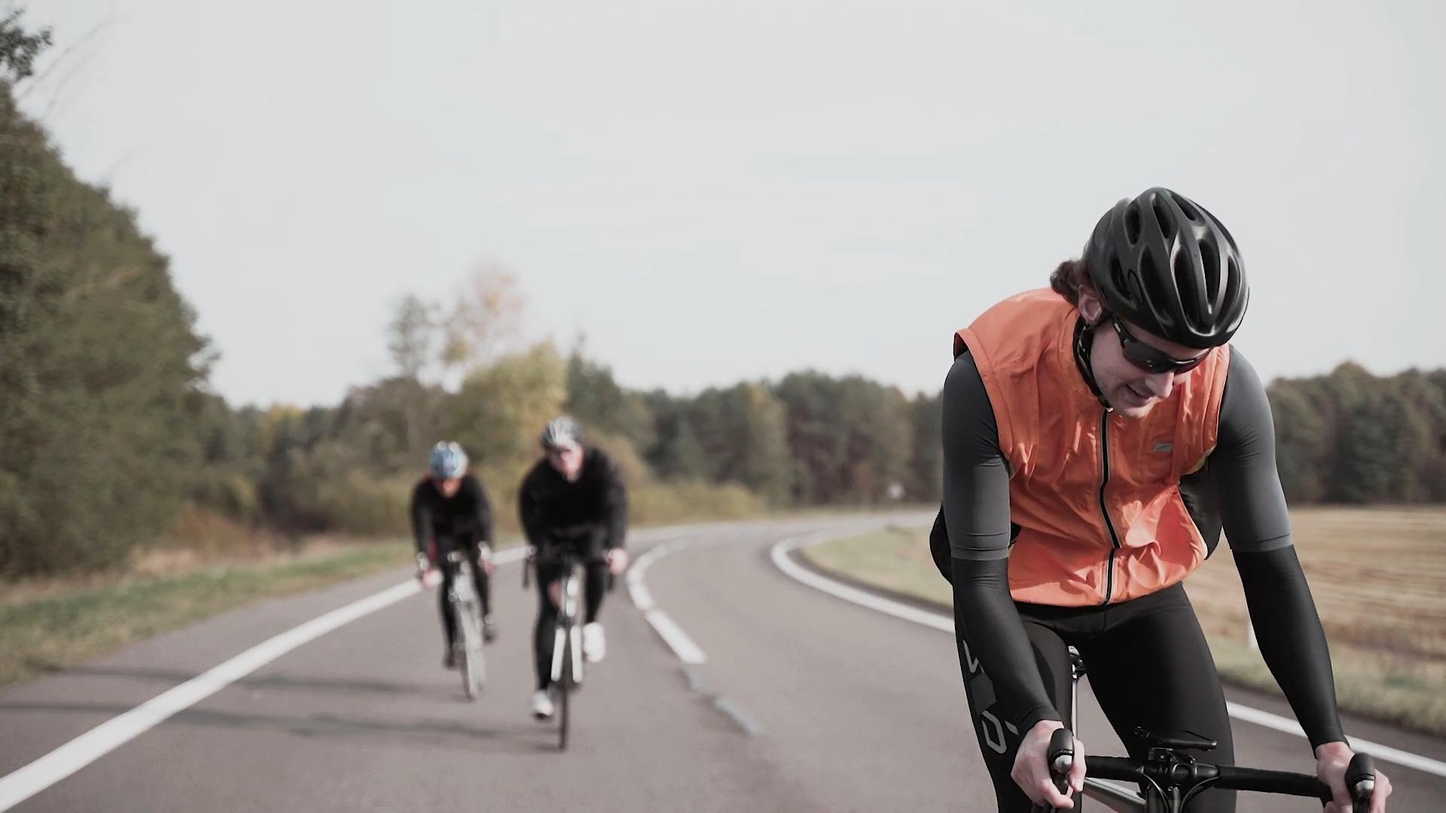bicyclist: (928, 186, 1397, 813), (515, 416, 629, 750), (409, 441, 500, 703)
helmet: (1047, 187, 1250, 420), (537, 416, 584, 476), (427, 442, 470, 498)
